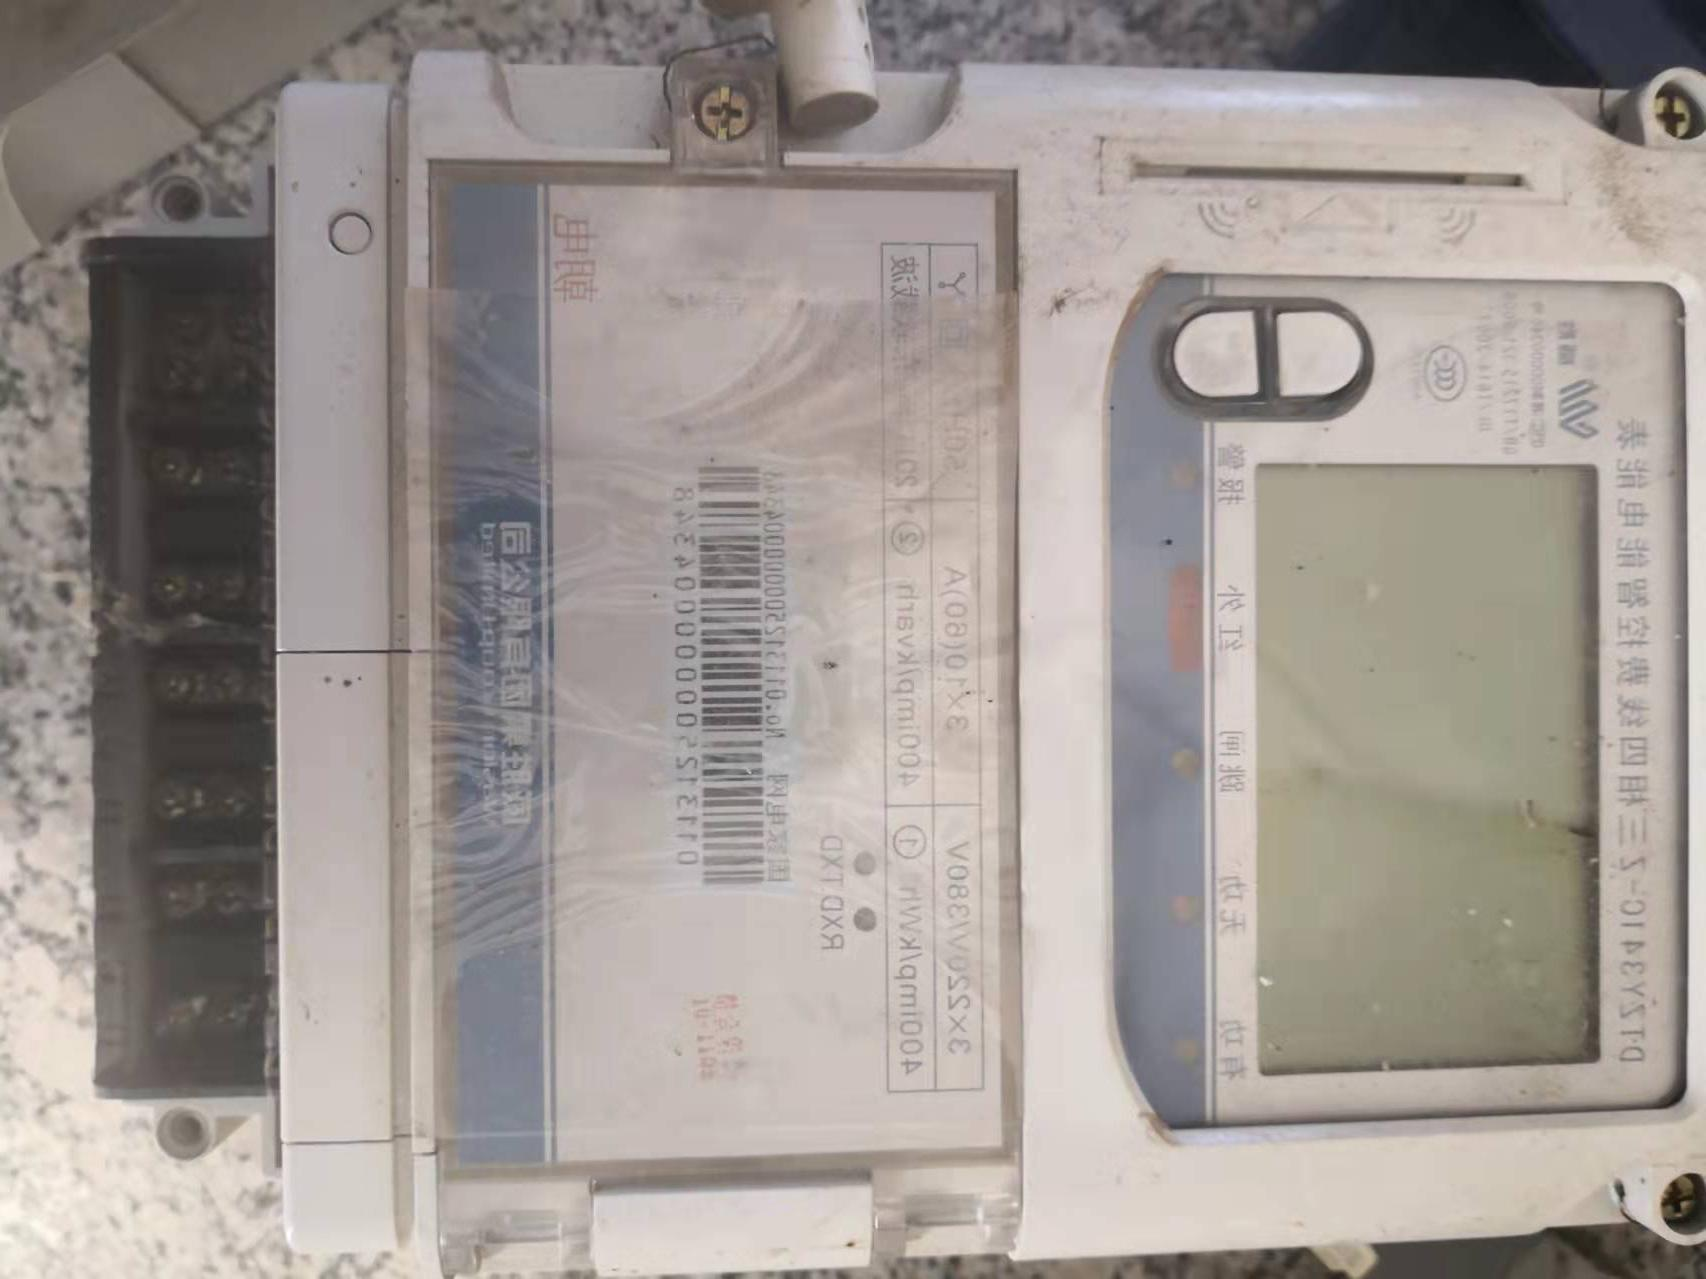digital: (271, 58, 1701, 1278)
